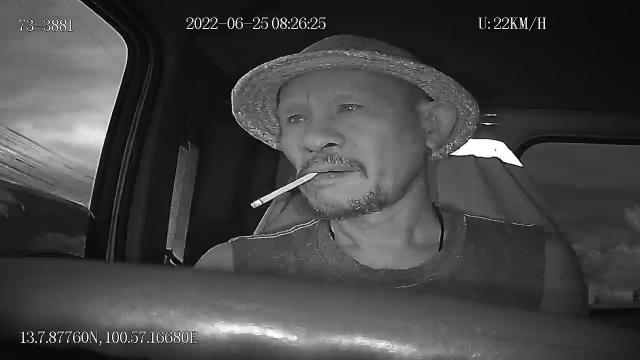SafeDriving: (332, 94, 371, 118), (280, 106, 314, 128)
Smoking: (251, 170, 319, 210)
